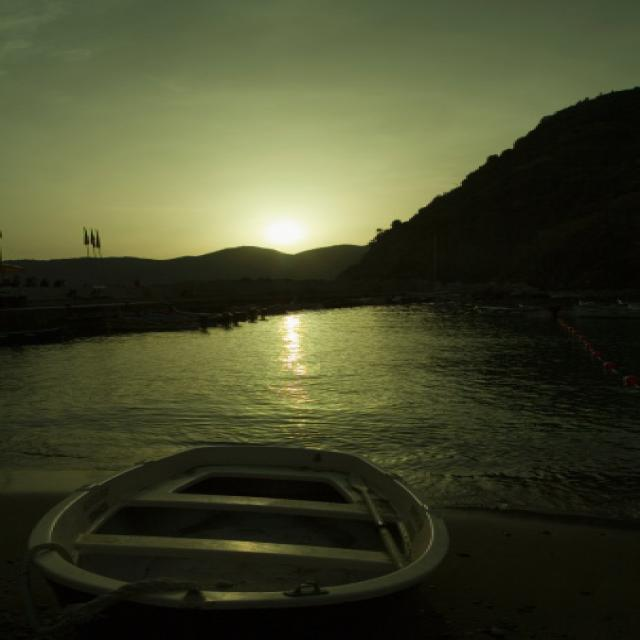Boat: (34, 433, 476, 640)
